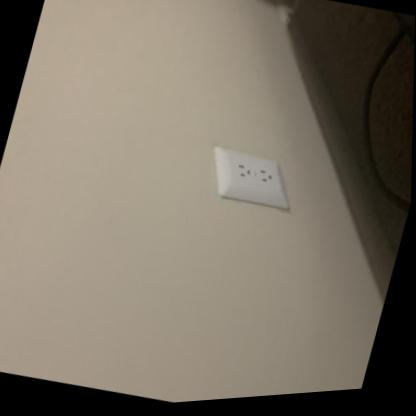OUTLET: (201, 138, 301, 216)
